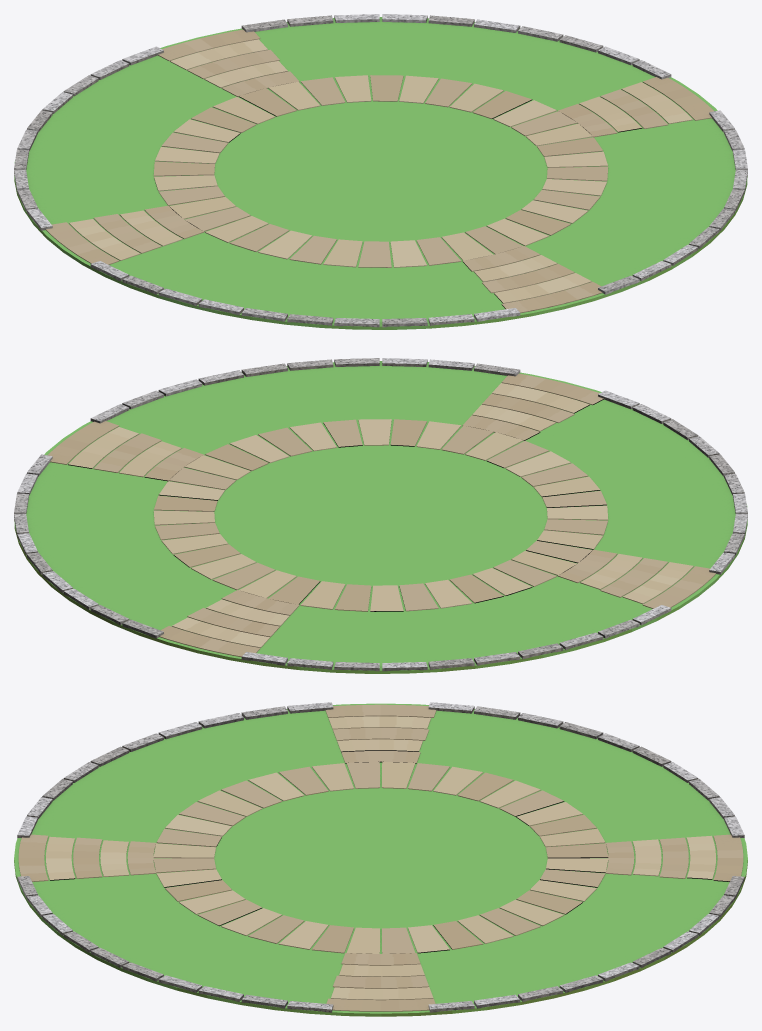
Rendered from hub_ground.fbx.
3 views of the same model, one above another, from view 1: azimuth 30°, elevation 25°; view 2: azimuth 150°, elevation 25°; view 3: azimuth 270°, elevation 25° (orthographic).
Parts seen in each view (by area): view 1: hub_ground_body; view 2: hub_ground_body; view 3: hub_ground_body.
Boxes of the visible parts, x1=… form: hub_ground_body: x1=14, y1=14, x2=747, y2=329; hub_ground_body: x1=14, y1=358, x2=747, y2=673; hub_ground_body: x1=14, y1=702, x2=747, y2=1016.
Size of the model in its own units: 9680 by 85 by 9680.
Materials: 1 (1 with a texture image).
